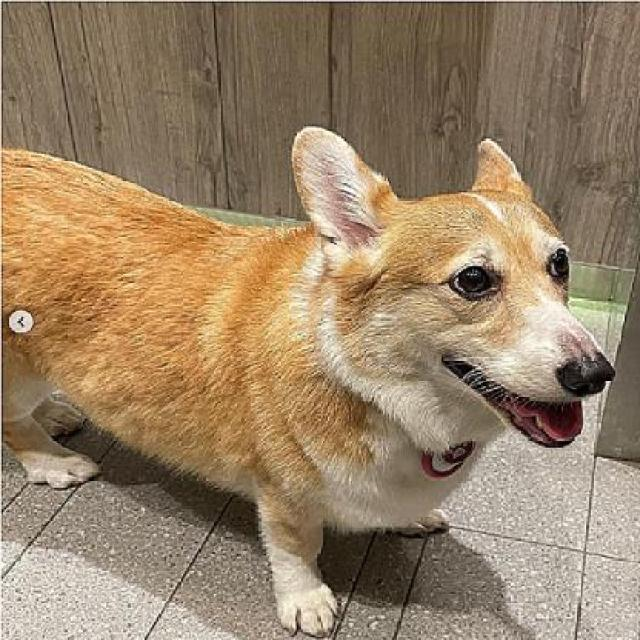Dog: (3, 120, 615, 638)
